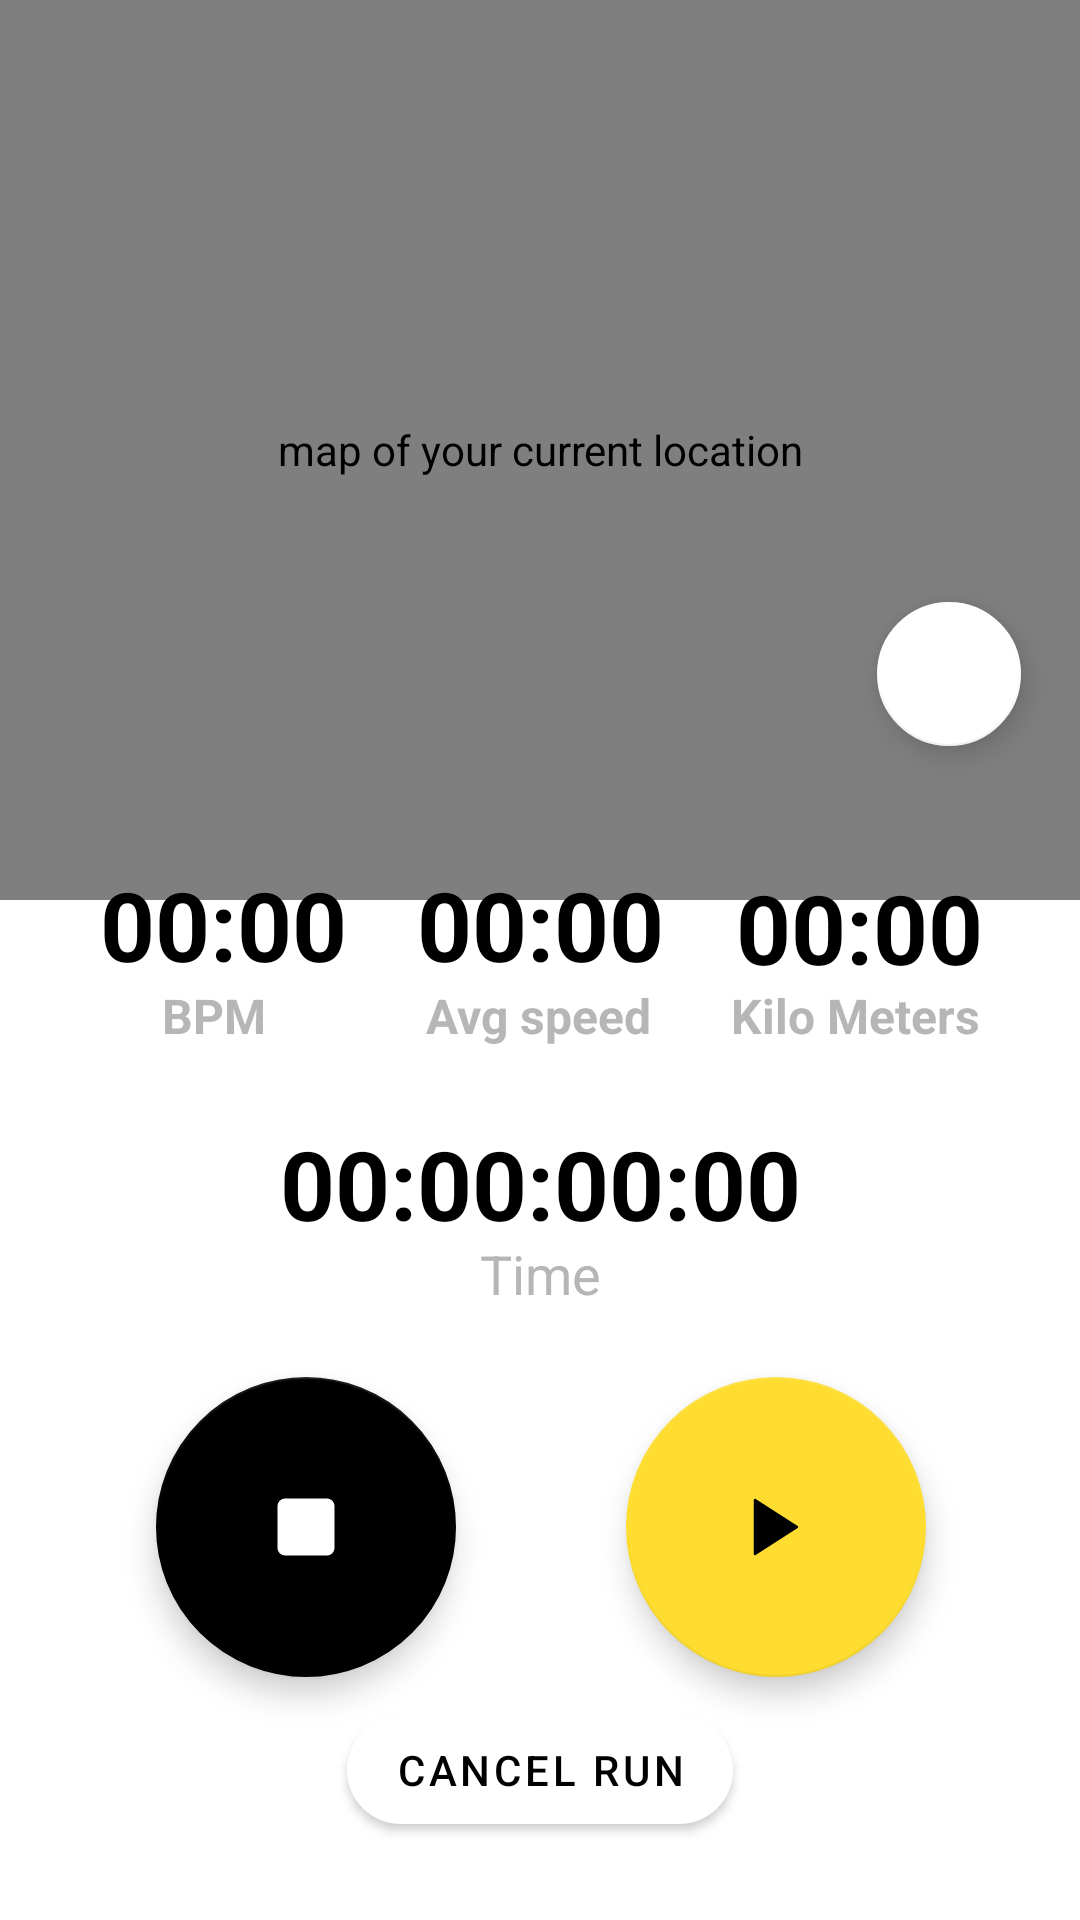

Point at icon controls on the screen. Image size 1080w x 1920h, points as (x,y).
resume run: (776,1527)
stoprun: (306,1527)
